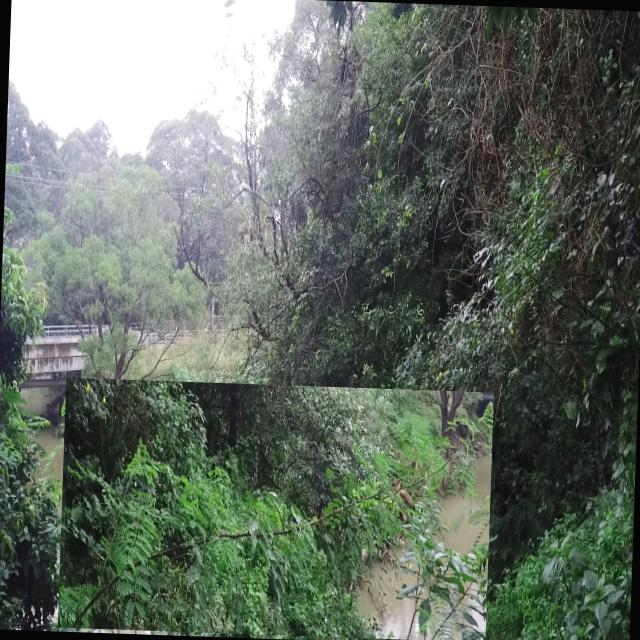Mysore-Thorn-Weed: (57, 377, 493, 640)
